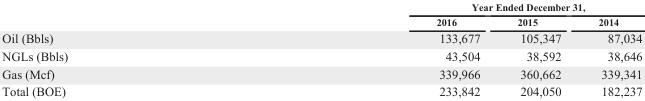table: (1, 0, 641, 98)
table column: (1, 0, 251, 98), (251, 0, 498, 98), (498, 0, 579, 98), (579, 0, 641, 98)
table column header: (1, 0, 641, 29)
table row: (1, 46, 641, 64), (1, 64, 641, 82), (1, 29, 641, 46), (1, 82, 641, 98), (1, 14, 641, 29), (1, 0, 641, 14)
table spanning cell: (251, 0, 641, 14)
